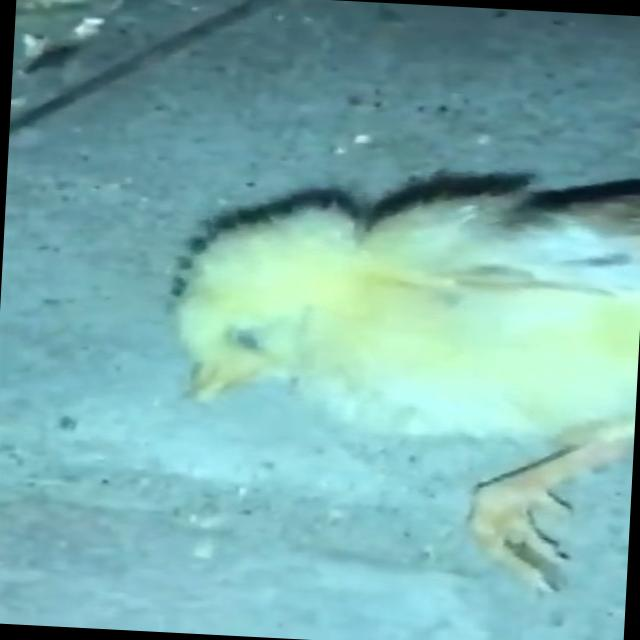abnormal chicken: (175, 115, 640, 584)
